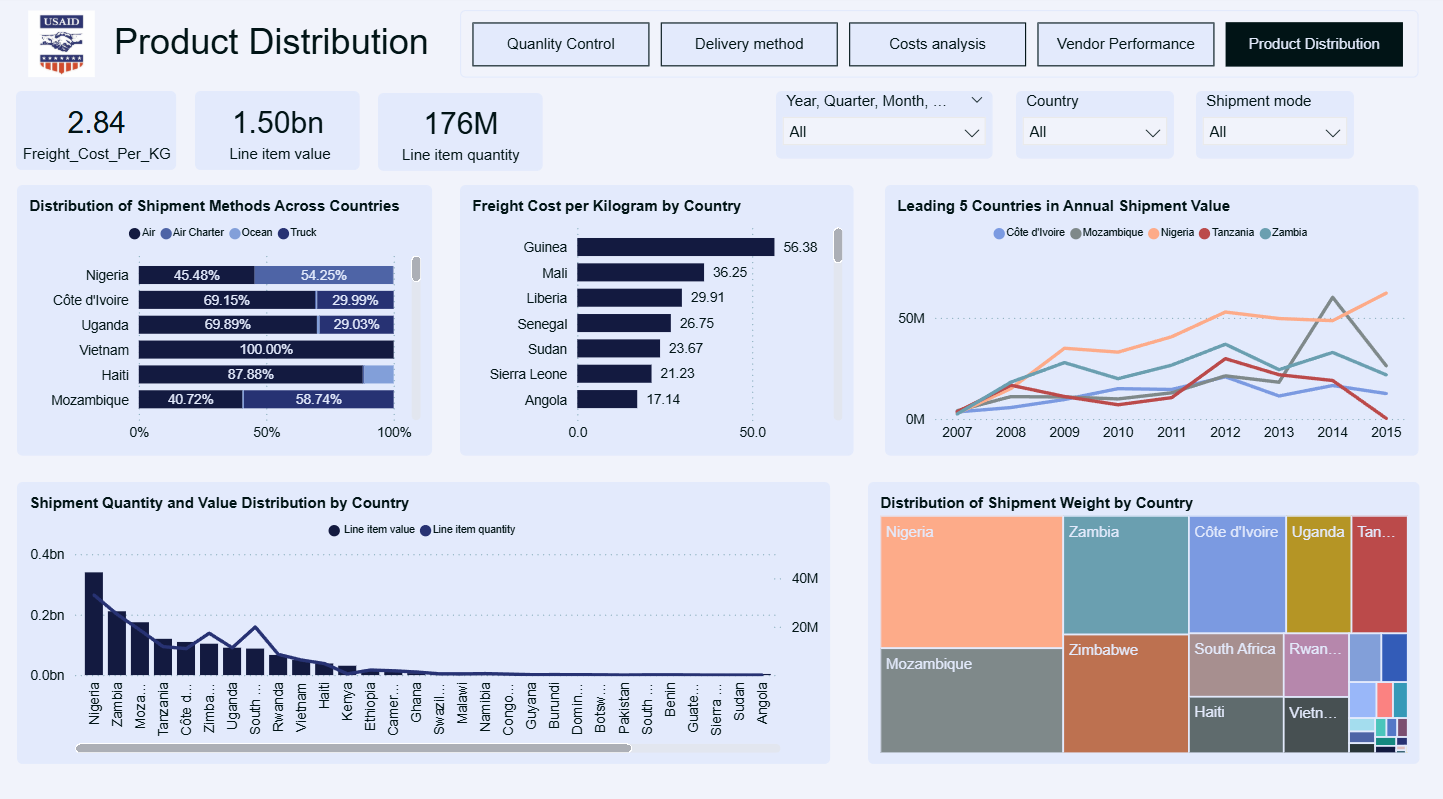

The dashboard page shown, as its layout file describes it:
{"tool":"powerbi","page":{"name":"Product Distribution","canvas":[1280,720],"ordinal":4},"visuals":[{"type":"treemap","title":"Distribution of Shipment Weight by Country","fields":{"Group":["data_cleaned.country"],"Values":["Sum(data_cleaned.weight (kilograms))"]},"box":[769.7,430.9,488.6,250],"z":0},{"type":"lineStackedColumnComboChart","title":"Shipment Quantity and Value Distribution by Country","fields":{"Category":["data_cleaned.country"],"Y":["Sum(data_cleaned.line item value)"],"Y2":["Sum(data_cleaned.line item quantity)"]},"box":[15.1,430.9,720.9,250],"z":1000},{"type":"barChart","title":"Freight Cost per Kilogram by Country","fields":{"Category":["data_cleaned.country"],"Y":["data_cleaned.Cost_Per_KG"]},"box":[407.9,167.6,349.4,240.3],"z":2000},{"type":"lineChart","title":"Leading 5 Countries in Annual Shipment Value","fields":{"Category":["data_cleaned.delivery recorded date.Variation.Date Hierarchy.Year","data_cleaned.delivery recorded date.Variation.Date Hierarchy.Quarter","data_cleaned.delivery recorded date.Variation.Date Hierarchy.Month","data_cleaned.delivery recorded date.Variation.Date Hierarchy.Day"],"Y":["Sum(data_cleaned.line item value)"],"Series":["data_cleaned.country"]},"box":[784.7,167.6,473.5,240.3],"z":3000},{"type":"hundredPercentStackedBarChart","title":"Distribution of Shipment Methods Across Countries","fields":{"Category":["data_cleaned.country"],"Y":["CountNonNull(data_cleaned.id)"],"Series":["data_cleaned.shipment mode"]},"box":[15.1,167.6,368,240.3],"z":4000},{"type":"slicer","fields":{"Values":["data_cleaned.delivery recorded date.Variation.Date Hierarchy.Year","data_cleaned.delivery recorded date.Variation.Date Hierarchy.Quarter","data_cleaned.delivery recorded date.Variation.Date Hierarchy.Month","data_cleaned.delivery recorded date.Variation.Date Hierarchy.Day"]},"box":[688.1,84.2,192.4,60.3],"z":5000},{"type":"textbox","box":[101.1,22.2,297.9,62.1],"z":6000},{"type":"slicer","fields":{"Values":["data_cleaned.country"]},"box":[900.4,84.2,140.1,60.3],"z":7000},{"type":"card","fields":{"Values":["data_cleaned.Cost_Per_KG"]},"box":[14.5,84.5,142.4,70],"z":8000},{"type":"slicer","fields":{"Values":["data_cleaned.shipment mode"]},"box":[1060.5,84.2,140.1,60.3],"z":9000},{"type":"card","fields":{"Values":["Sum(data_cleaned.line item value)"]},"box":[173.1,84.5,146,70],"z":10000},{"type":"card","fields":{"Values":["Sum(data_cleaned.line item quantity)"]},"box":[335.4,85.7,146,68.8],"z":11000},{"type":"pageNavigator","box":[407.9,12.4,850.3,60.3],"z":12000},{"type":"image","box":[15.1,0.9,78.9,83.3],"z":13000}]}

Visuals, with their boxes in screenshot pixels (x1, y1, x2, y2), scaled from the page's 1280x720 canvas onto the 1443x799 screenshot:
"Distribution of Shipment Weight by Country" treemap: (868,478,1419,756)
"Shipment Quantity and Value Distribution by Country" lineStackedColumnComboChart: (17,478,830,756)
"Freight Cost per Kilogram by Country" barChart: (460,186,854,453)
"Leading 5 Countries in Annual Shipment Value" lineChart: (885,186,1418,453)
"Distribution of Shipment Methods Across Countries" hundredPercentStackedBarChart: (17,186,432,453)
slicer - data_cleaned.delivery recorded date.Variation.Date Hierarchy.Year x data_cleaned.delivery recorded date.Variation.Date Hierarchy.Quarter: (776,93,993,160)
textbox: (114,25,450,94)
slicer - data_cleaned.country: (1015,93,1173,160)
card - data_cleaned.Cost_Per_KG: (16,94,177,171)
slicer - data_cleaned.shipment mode: (1196,93,1353,160)
card - Sum(data_cleaned.line item value): (195,94,360,171)
card - Sum(data_cleaned.line item quantity): (378,95,543,171)
pageNavigator: (460,14,1418,81)
image: (17,1,106,93)
